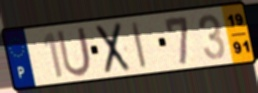1: (42, 31, 64, 80)
3: (197, 14, 226, 61)
7: (163, 15, 192, 67)
I: (129, 19, 149, 70)
U: (54, 25, 93, 79)
X: (94, 20, 133, 76)
